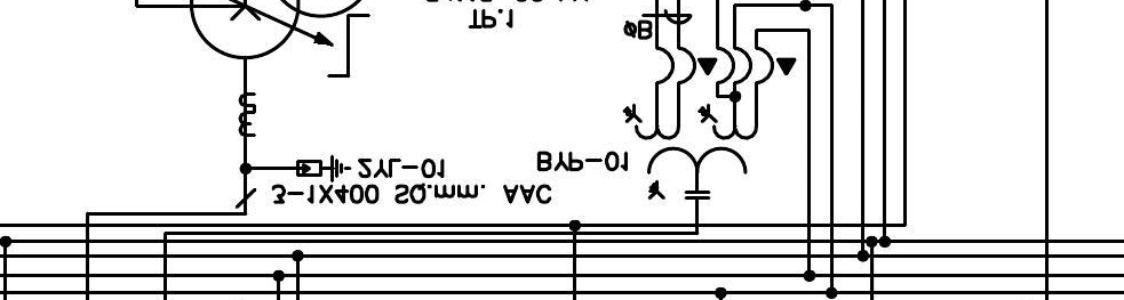115_cvt_3p: (622, 102, 759, 200)
115_la: (296, 154, 352, 183)
